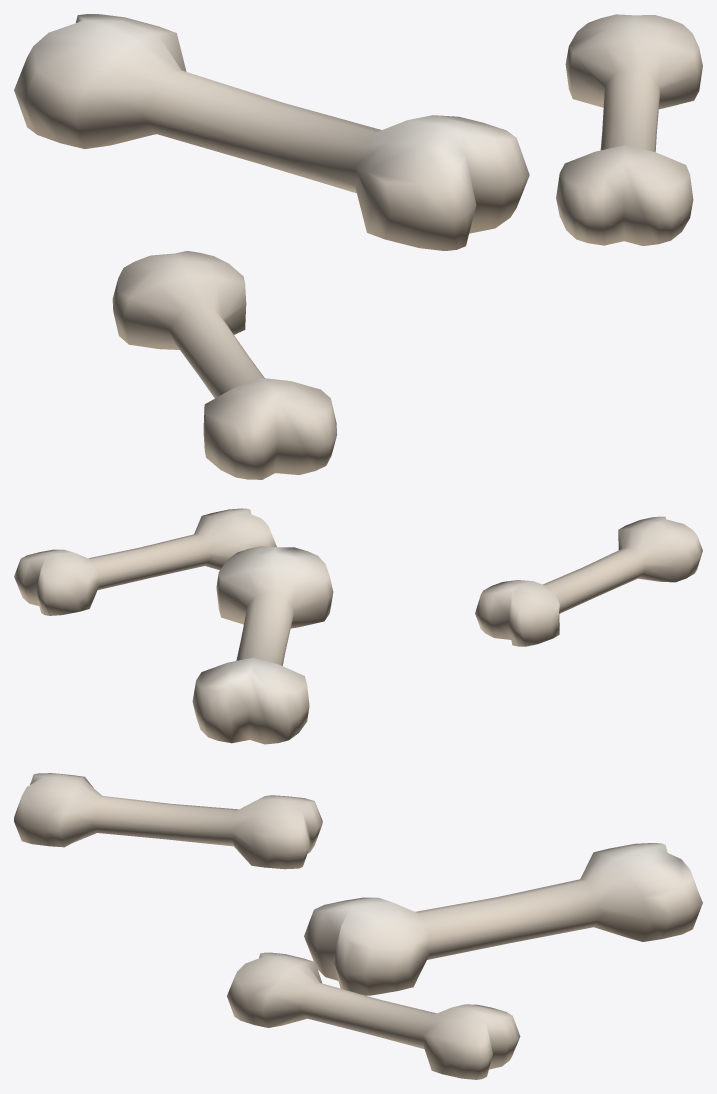
The model's file is dungeonkit_decor_bones.fbx.
3 views of the same model, one above another, from view 1: azimuth 30°, elevation 25°; view 2: azimuth 150°, elevation 25°; view 3: azimuth 270°, elevation 25° (orthographic). The views are drawn at different scales.
Parts seen in each view (by area): view 1: Cube.009; view 2: Cube.009; view 3: Cube.009.
Part boxes in pixels (x1=…): Cube.009: x1=14, y1=14, x2=702, y2=479; Cube.009: x1=14, y1=508, x2=702, y2=744; Cube.009: x1=14, y1=773, x2=702, y2=1079.
Size of the model in its own units: 165 by 21.69 by 176.
